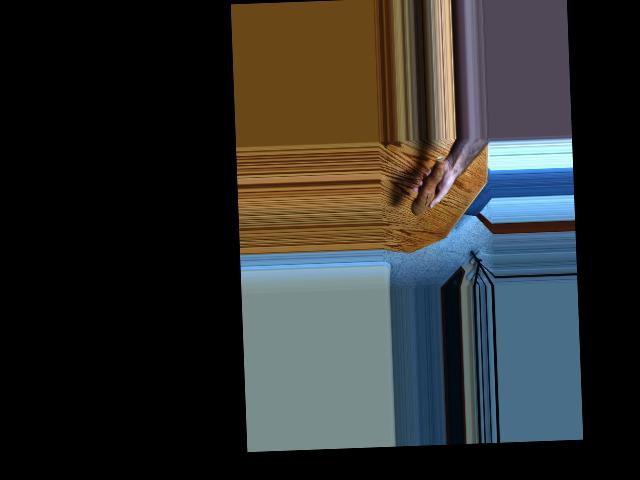sweet_potato: (409, 155, 451, 217)
